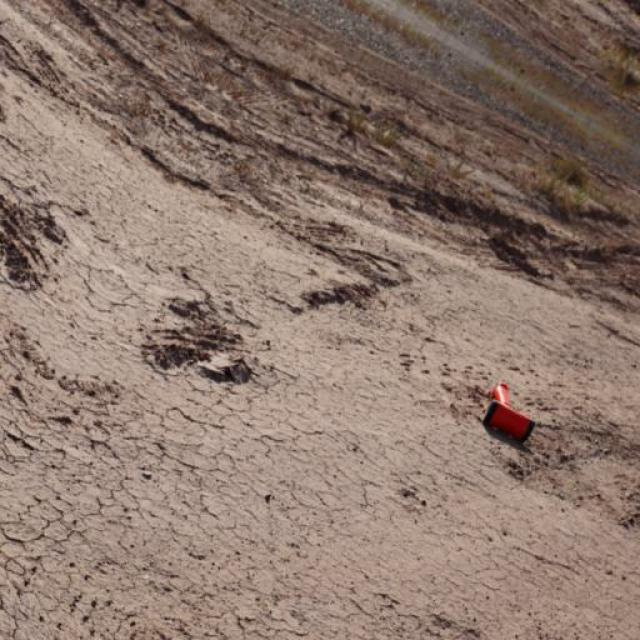mallet: (480, 381, 535, 444)
